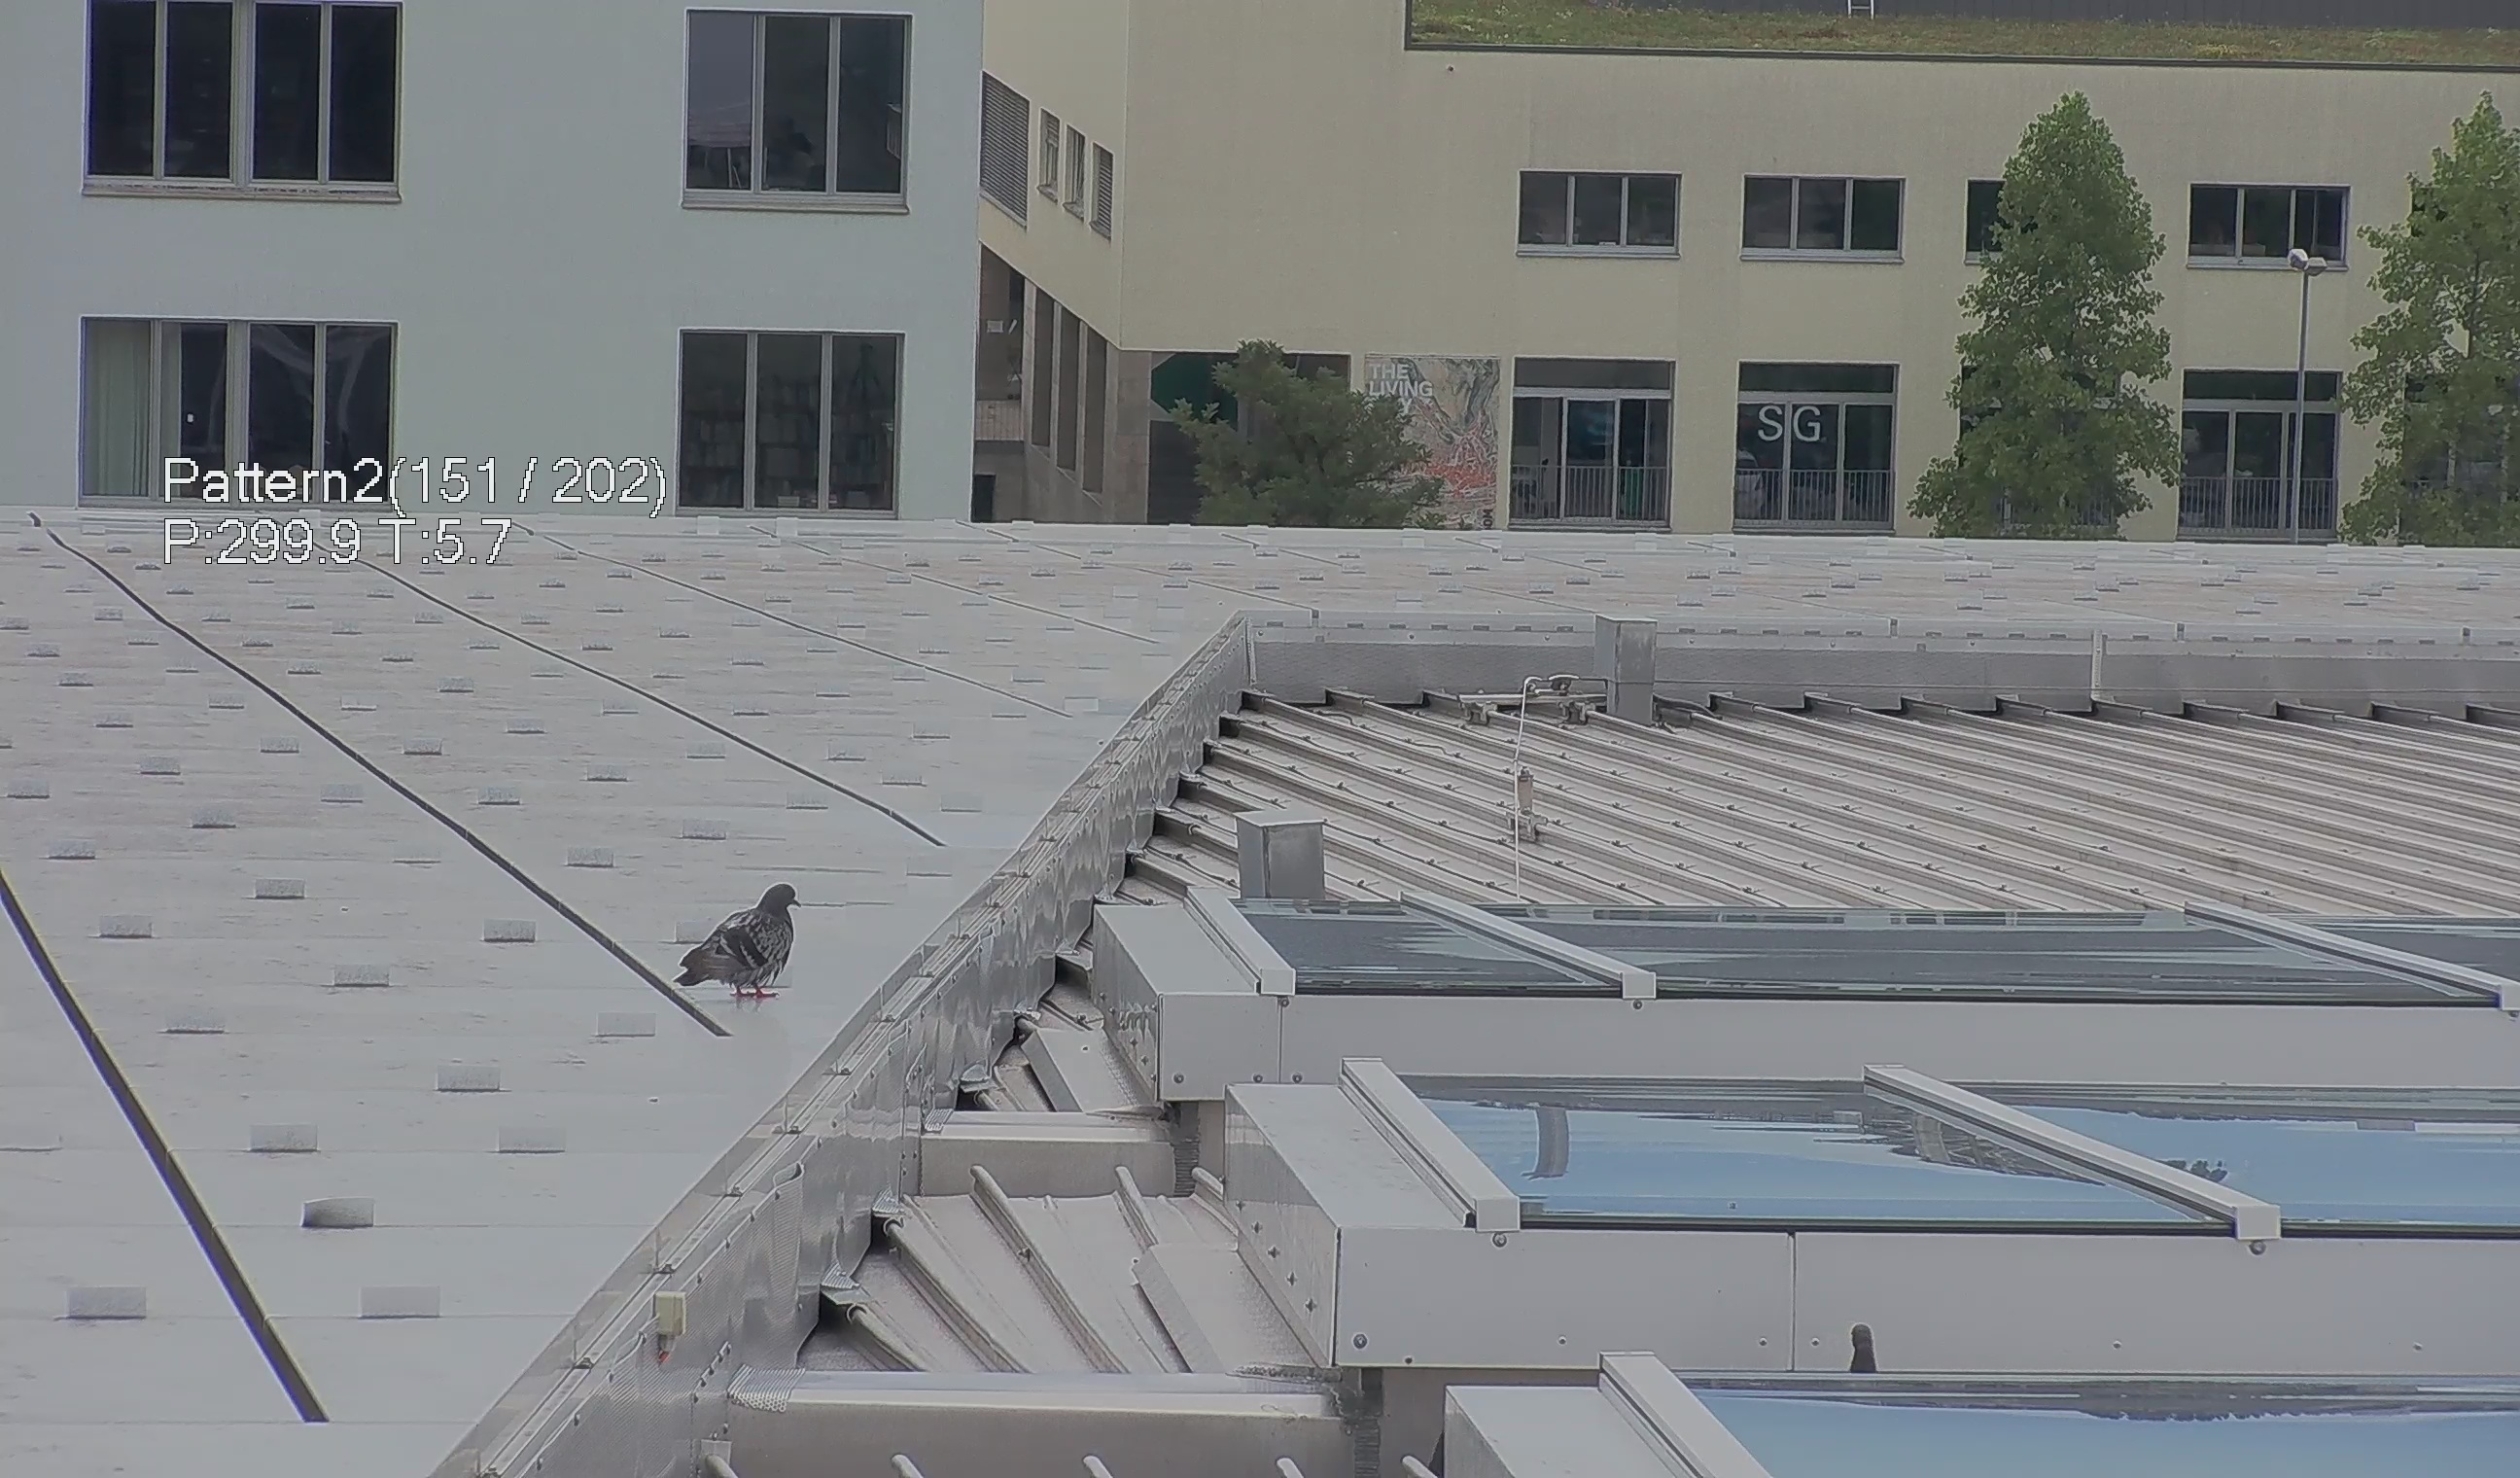Pigeon: (665, 871, 805, 1024), (1829, 1314, 1896, 1374)
